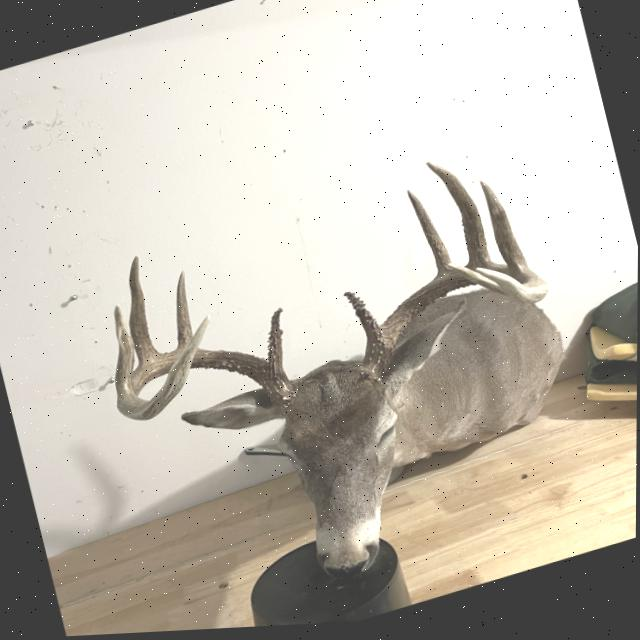L-G1: (132, 278, 206, 317)
L-G2: (207, 308, 326, 361)
L-G3: (212, 317, 358, 392)
L-G4: (197, 364, 324, 421)
R-G1: (121, 224, 199, 243)
R-G2: (166, 143, 268, 166)
R-G3: (152, 103, 296, 144)
R-G4: (112, 98, 236, 129)
